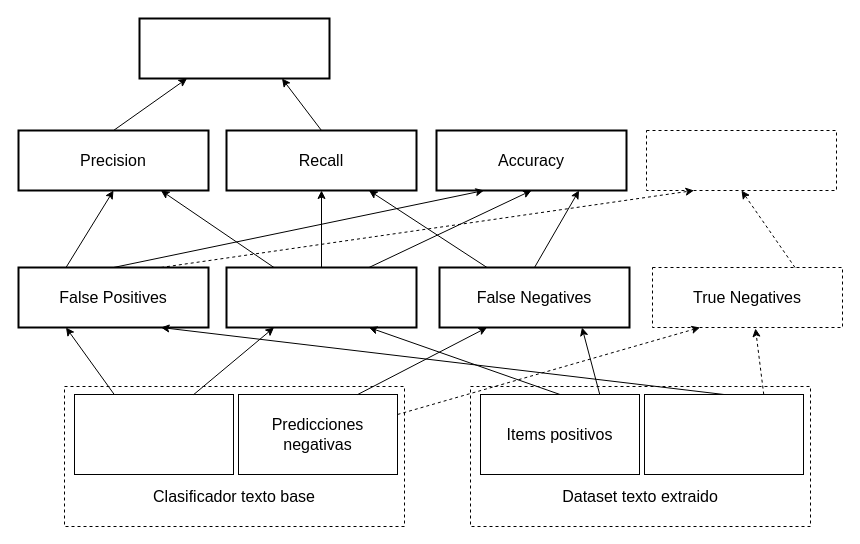
Some shapes in this 860 by 544 pixel diagram are drawn without their labels. The box of each missing label's shape, as (x1, y1, x2, y2) in pixels:
F1-Score: (138, 17, 330, 79)
Items negativos: (644, 394, 804, 474)
Predicciones positivas: (74, 394, 234, 474)
Specifity: (646, 130, 836, 190)
True Positives: (225, 266, 417, 328)
